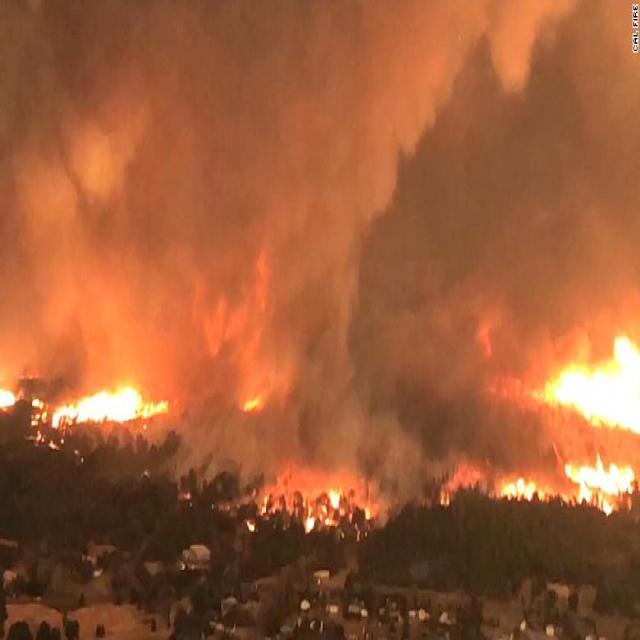Smoke: (95, 0, 546, 546)
